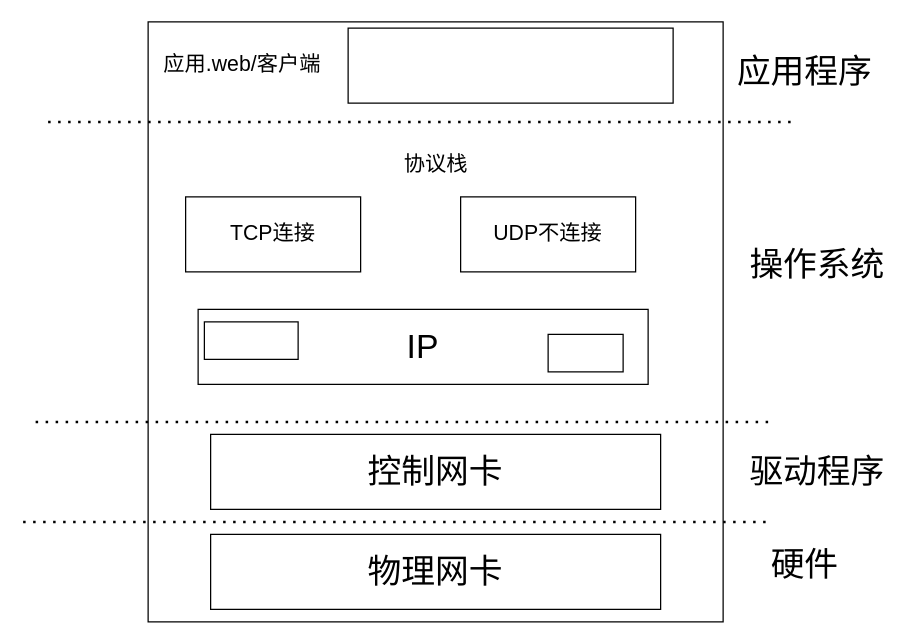
This 919x644 diagram has some shape labels left out. The shapes that lost their labels are listed below. From the top down, each one's centre as x and y in pixels, then its label:
At pixel 510 65: "socket库".
At pixel 250 340: "ICMP".
At pixel 585 352: "APR".
